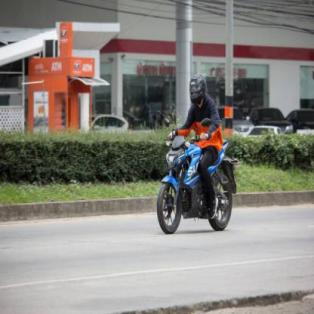Motocicleta: (159, 121, 237, 232)
